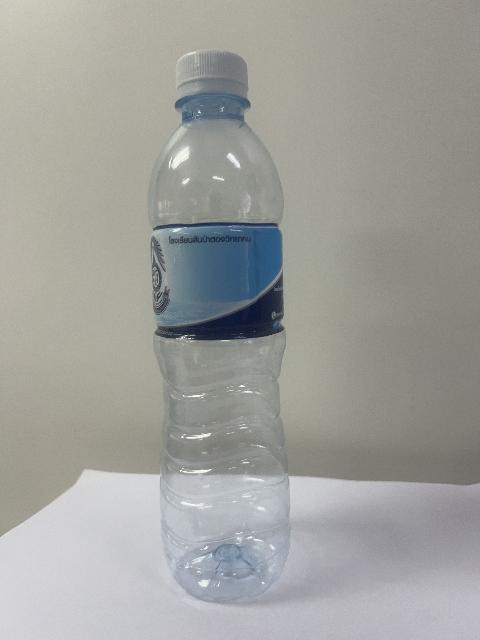bottle: (148, 47, 290, 603)
